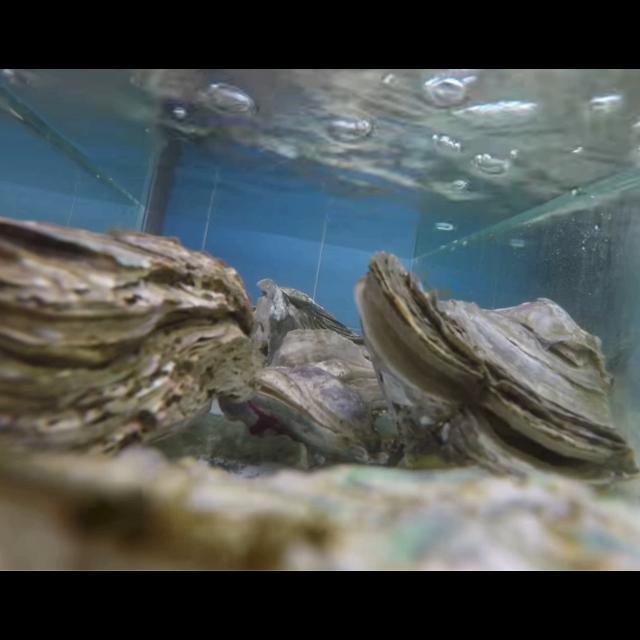Oyster-Closed: (0, 445, 640, 571), (0, 217, 254, 478), (252, 278, 368, 369)
Oyster-Open: (355, 250, 640, 494), (250, 329, 408, 467)
